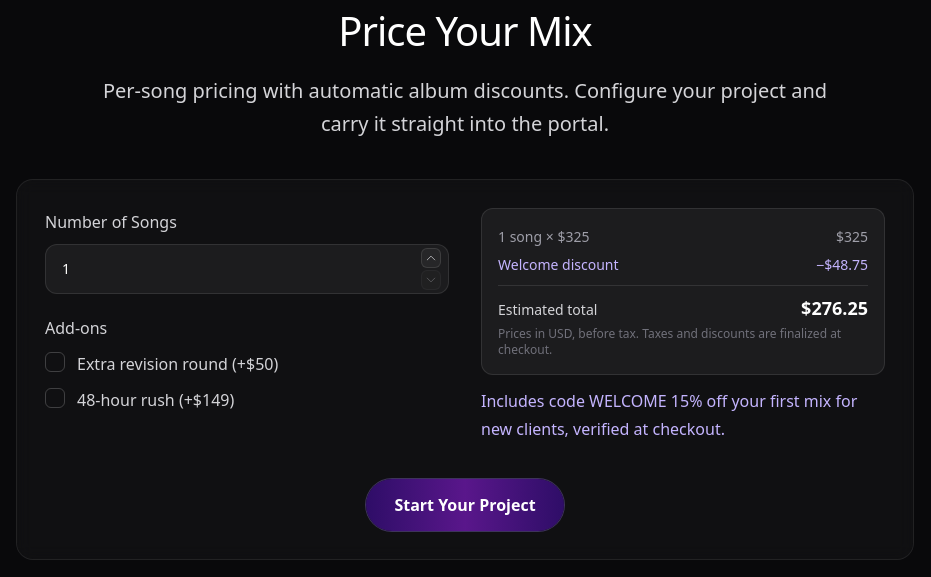
Test case: PriceCalculator › the stepper buttons adjust the song count
Step 1. Click the button named "Increase number of songs" → (431, 258), box [421, 248, 441, 268]
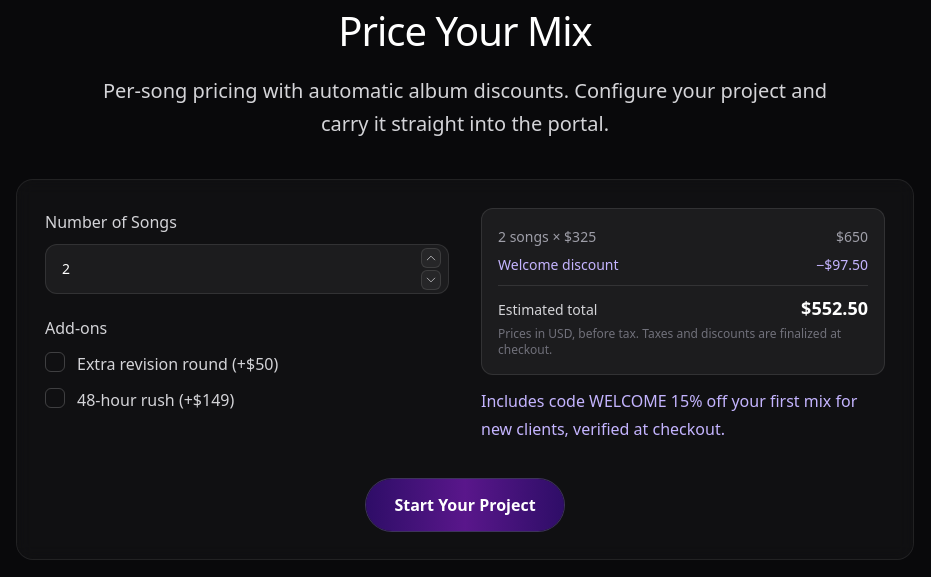
Expected: the number field labelled "Number of Songs" holds "2", [45, 244, 449, 294]
Expected: the element with test id "live-quote" shows "2 songs ×", [481, 208, 885, 375]
Step 2. Click the button named "Decrease number of songs" → (431, 280), box [421, 270, 441, 290]
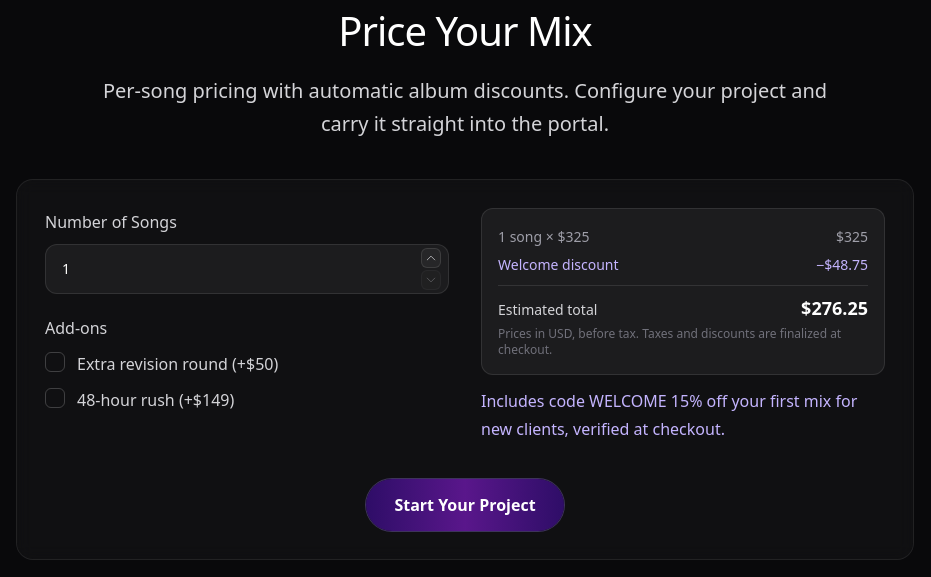
Expected: the number field labelled "Number of Songs" holds "1", [45, 244, 449, 294]
